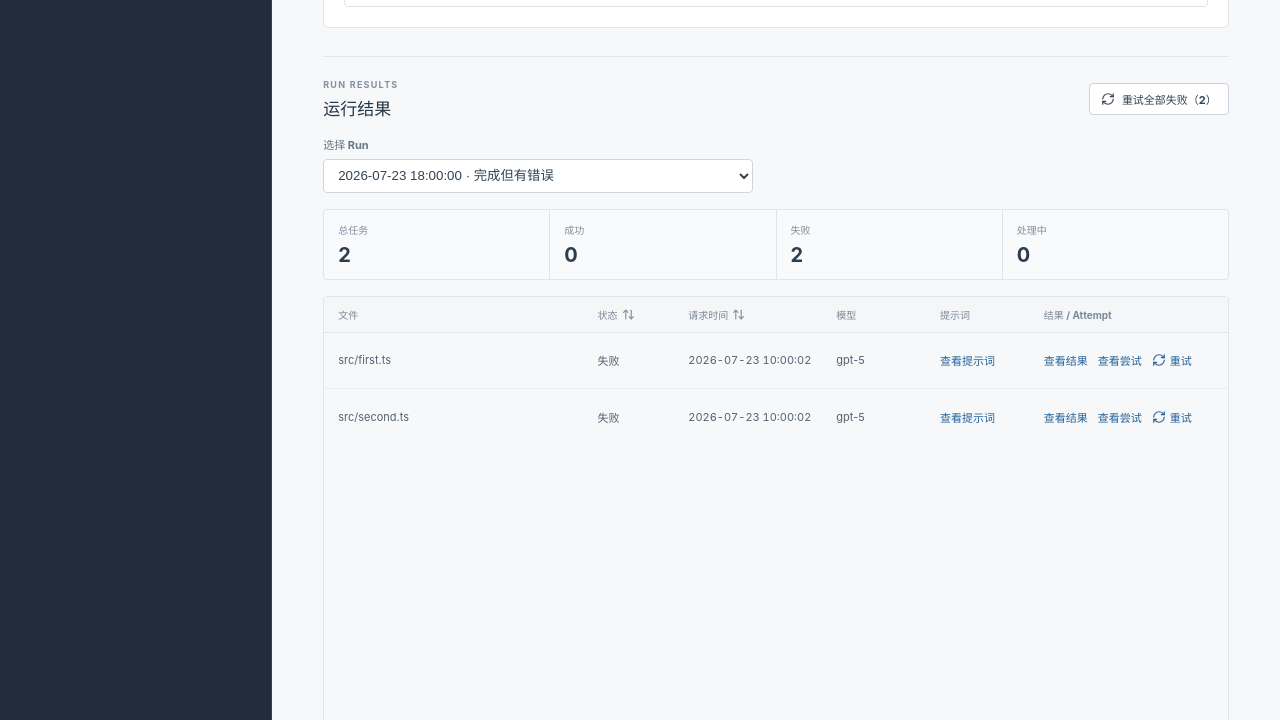
Scenario: App retry flow › shows the failure reason instead of reading a missing result file
The image size is (1280, 720).
(page scrolled)
Step 1. Click the button with aria-label "查看结果 src/first.ts" → x=1066, y=360, box top-left (1044, 352), bottom-right (1088, 368)
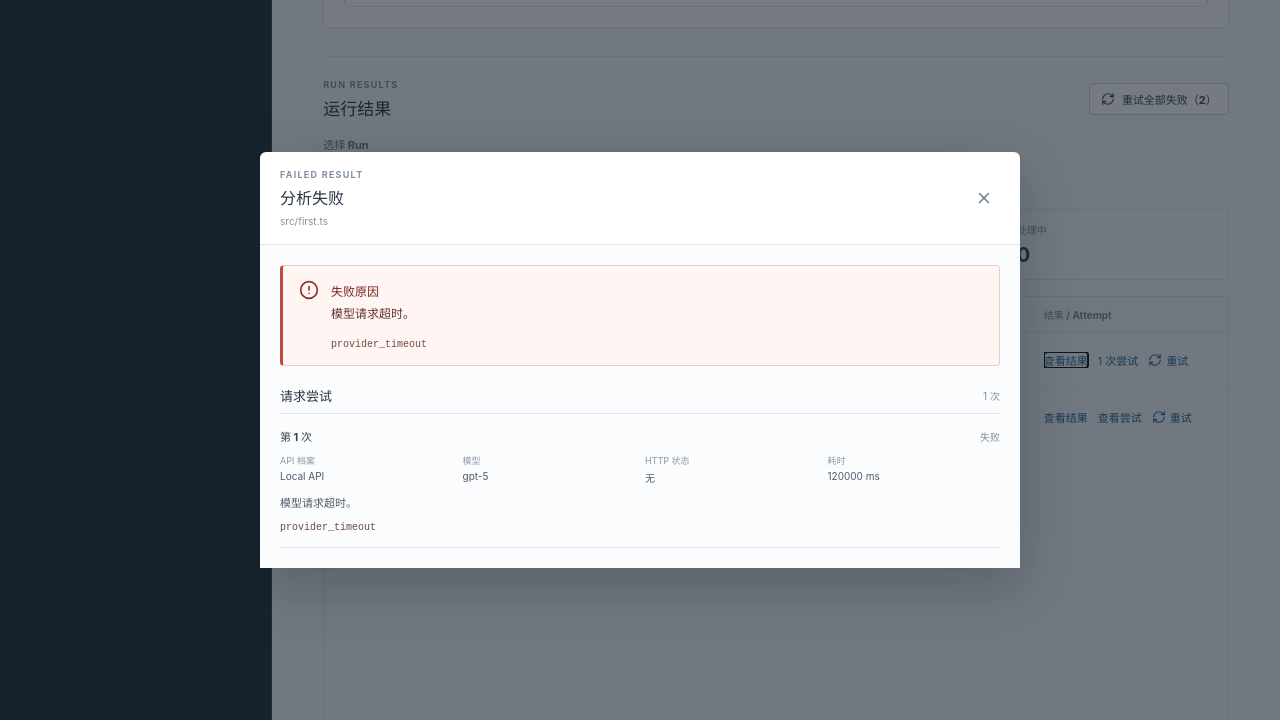
expect the dialog named "失败结果：src/first.ts" shows "模型请求超时。": met, box top-left (331, 306), bottom-right (415, 322)
expect the dialog named "失败结果：src/first.ts" shows "provider_timeout": met, box top-left (331, 339), bottom-right (427, 350)
